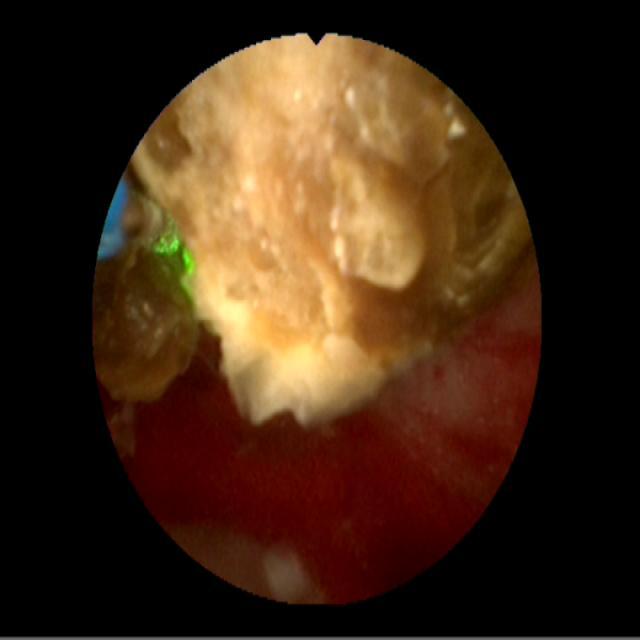fiber: (101, 178, 126, 252)
stone: (97, 35, 528, 432)
tissue: (129, 281, 532, 595)
